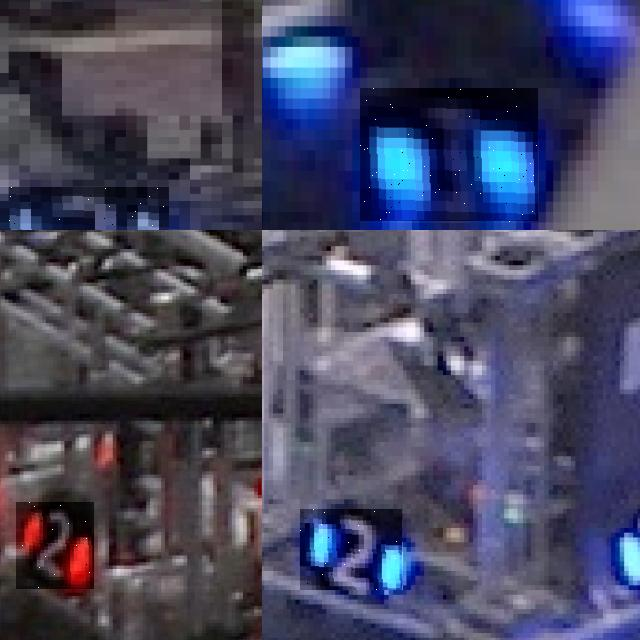B2: (300, 509, 402, 590), (0, 186, 168, 230), (620, 494, 640, 590)
B3: (360, 89, 538, 222)
R2: (16, 502, 94, 589)
